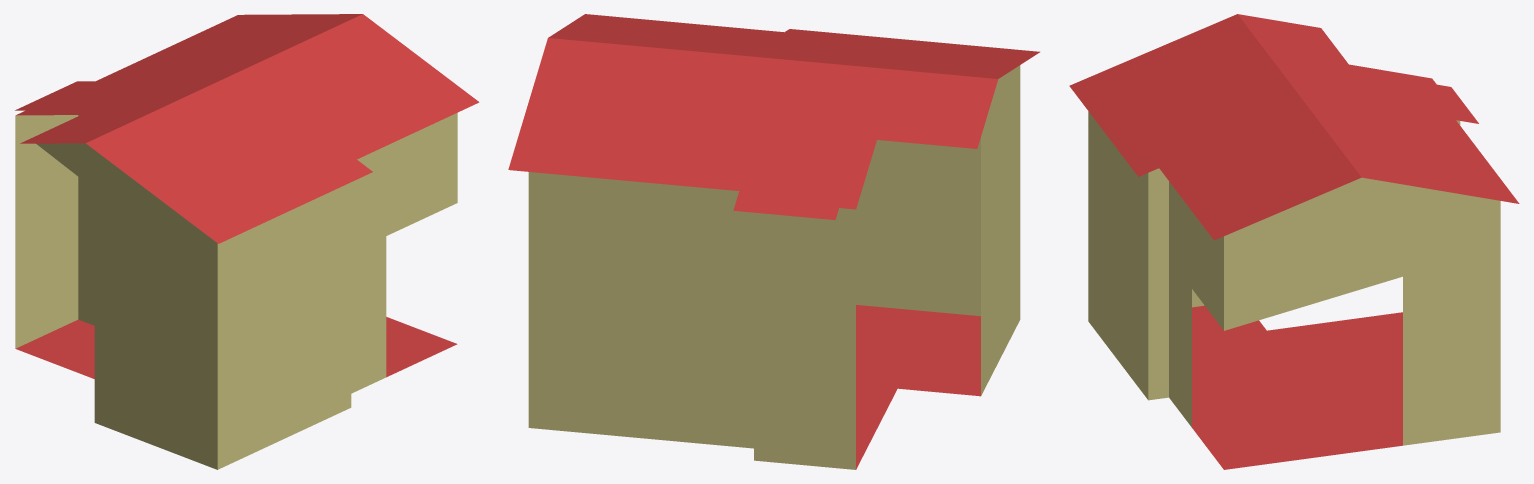
3 views of the same model, side by side, from view 1: azimuth 30°, elevation 25°; view 2: azimuth 150°, elevation 25°; view 3: azimuth 270°, elevation 25° (orthographic). The views are drawn at different scales.
Bounding box in the file's own units: 15.11 × 14.75 × 10.13.
